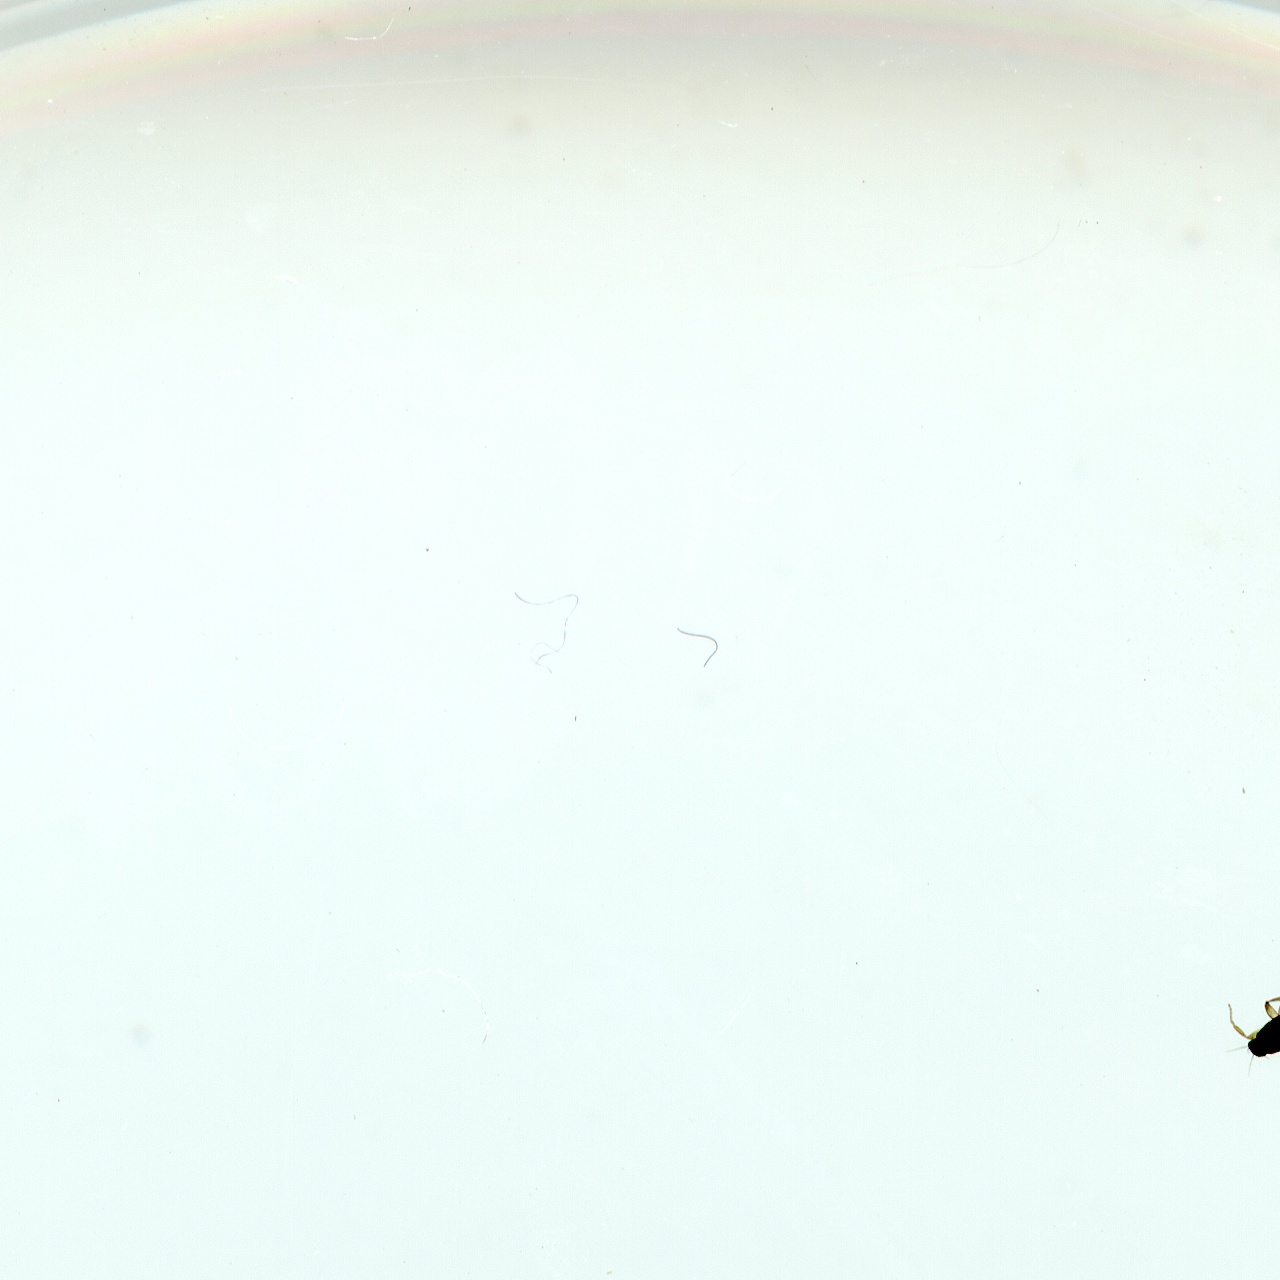arthropod: (1197, 955, 1280, 1118)
